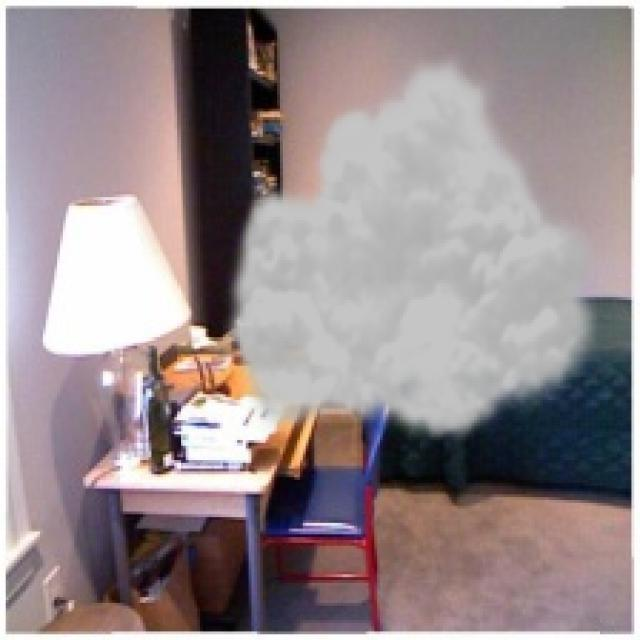Smoke: (220, 48, 609, 443)
